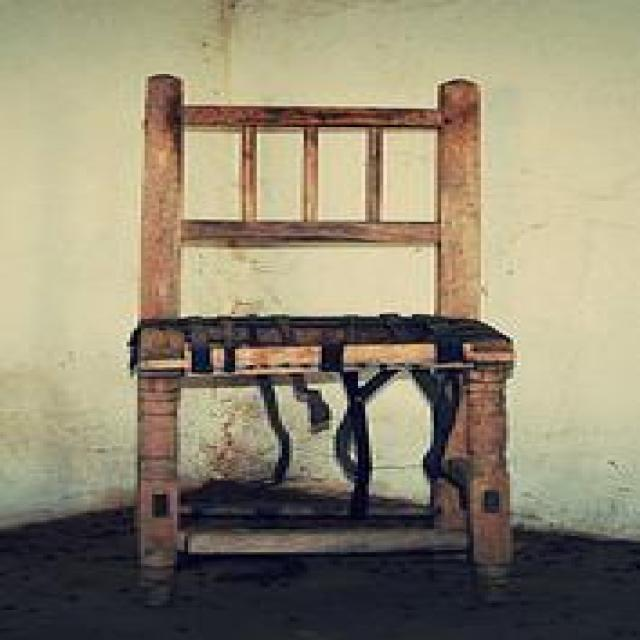chair: (125, 69, 520, 613)
